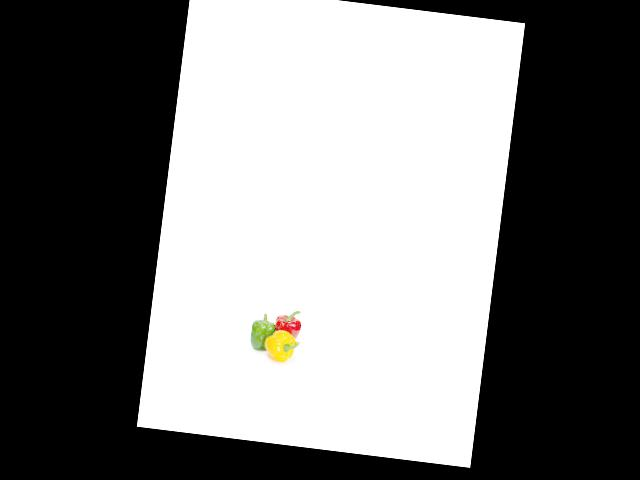bell_pepper: (269, 304, 307, 344)
